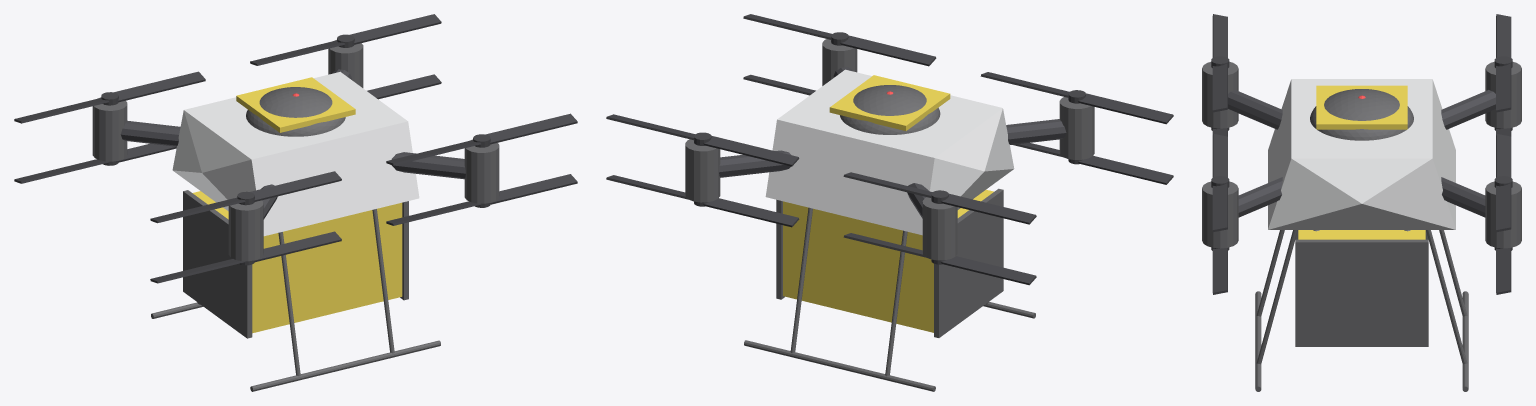
Rendered from smv_cargo_x8.glb.
3 views of the same model, side by side, from view 1: azimuth 30°, elevation 25°; view 2: azimuth 150°, elevation 25°; view 3: azimuth 270°, elevation 25° (orthographic). The views are drawn at different scales.
Visible parts, largest first — view 1: cargo_x8_v0, cargo_x8_v20, cargo_x8_v21, cargo_x8_v1, cargo_x8_v27, rotor_2_v0, rotor_0_v0, rotor_1_v0, rotor_3_v0, rotor_4_v0, rotor_5_v0, cargo_x8_v2 (+14 smaller); view 2: cargo_x8_v0, cargo_x8_v20, cargo_x8_v21, cargo_x8_v1, cargo_x8_v27, rotor_2_v0, rotor_1_v0, rotor_0_v0, rotor_3_v0, rotor_7_v0, rotor_6_v0, rotor_5_v0 (+13 smaller); view 3: cargo_x8_v0, cargo_x8_v22, cargo_x8_v1, cargo_x8_v27, rotor_1_v0, rotor_0_v0, rotor_2_v0, rotor_3_v0, cargo_x8_v20, cargo_x8_v5, cargo_x8_v8, cargo_x8_v2 (+17 smaller).
Part boxes in pixels (left/top/right/bottom): cargo_x8_v0: left=172, top=71, right=419, bottom=236; cargo_x8_v20: left=192, top=191, right=402, bottom=333; cargo_x8_v21: left=183, top=190, right=252, bottom=338; cargo_x8_v1: left=246, top=87, right=345, bottom=136; cargo_x8_v27: left=236, top=77, right=355, bottom=132; rotor_2_v0: left=14, top=71, right=205, bottom=123; rotor_0_v0: left=386, top=113, right=577, bottom=165; rotor_1_v0: left=150, top=171, right=341, bottom=223; rotor_3_v0: left=250, top=14, right=441, bottom=65; rotor_4_v0: left=386, top=174, right=577, bottom=225; rotor_5_v0: left=150, top=231, right=341, bottom=283; cargo_x8_v2: left=391, top=152, right=465, bottom=179; cargo_x8_v0: left=765, top=69, right=1014, bottom=235; cargo_x8_v20: left=783, top=189, right=993, bottom=332; cargo_x8_v21: left=934, top=188, right=1003, bottom=337; cargo_x8_v1: left=840, top=85, right=940, bottom=134; cargo_x8_v27: left=829, top=75, right=950, bottom=130; rotor_2_v0: left=843, top=172, right=1036, bottom=224; rotor_1_v0: left=980, top=72, right=1173, bottom=124; rotor_0_v0: left=743, top=14, right=936, bottom=66; rotor_3_v0: left=606, top=114, right=799, bottom=166; rotor_7_v0: left=606, top=175, right=799, bottom=227; rotor_6_v0: left=843, top=233, right=1036, bottom=285; rotor_5_v0: left=1012, top=143, right=1173, bottom=184; cargo_x8_v0: left=1268, top=79, right=1455, bottom=229; cargo_x8_v22: left=1295, top=239, right=1428, bottom=346; cargo_x8_v1: left=1310, top=89, right=1413, bottom=140; cargo_x8_v27: left=1316, top=85, right=1407, bottom=129; rotor_1_v0: left=1211, top=14, right=1229, bottom=112; rotor_0_v0: left=1211, top=134, right=1229, bottom=231; rotor_2_v0: left=1494, top=14, right=1512, bottom=112; rotor_3_v0: left=1494, top=134, right=1512, bottom=231; cargo_x8_v20: left=1298, top=230, right=1425, bottom=239; cargo_x8_v5: left=1228, top=90, right=1282, bottom=129; cargo_x8_v8: left=1441, top=90, right=1495, bottom=129; cargo_x8_v2: left=1238, top=177, right=1282, bottom=217.
Size of the model in its own units: 1.66 by 0.9025 by 1.05.
